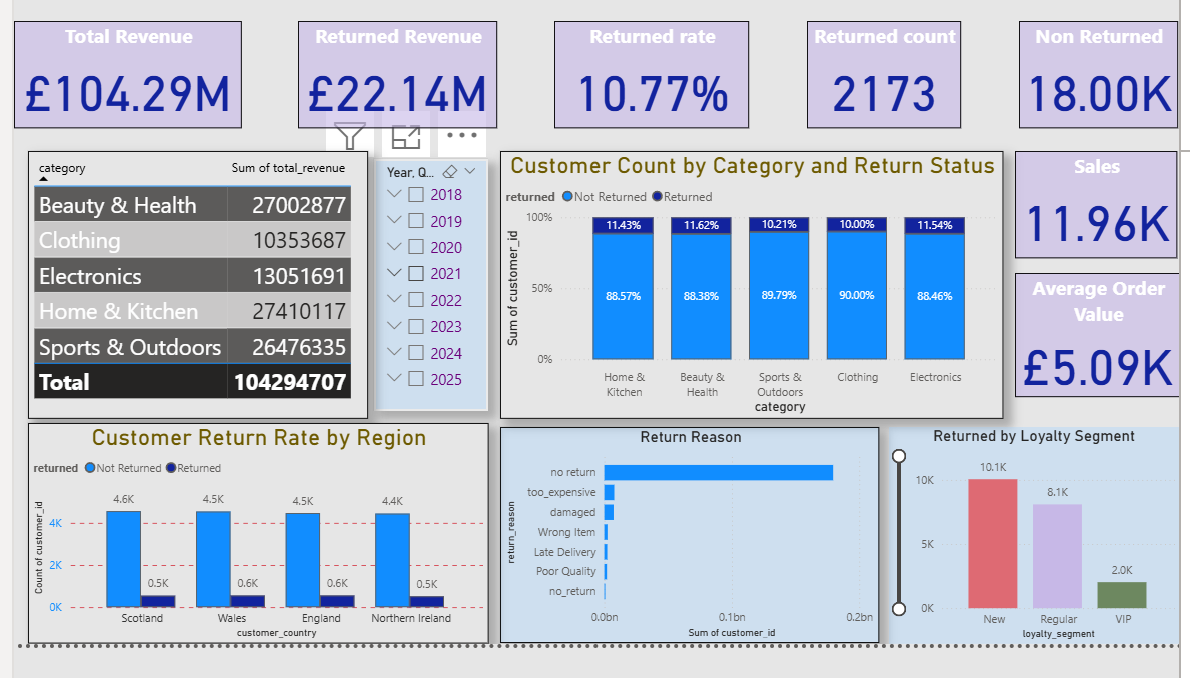

The page's visual inventory and layout, read from the dashboard file:
{"tool":"powerbi","page":{"name":"summary statistic","canvas":[1280,720],"ordinal":1},"visuals":[{"type":"slicer","fields":{"Values":["Sales.order_date.Variation.Date Hierarchy.Year","Sales.order_date.Variation.Date Hierarchy.Quarter","Sales.order_date.Variation.Date Hierarchy.Month","Sales.order_date.Variation.Date Hierarchy.Day"]},"box":[396,187.9,125.2,276.3],"z":0},{"type":"card","title":"Total Revenue","fields":{"Values":["Sum(Sales.total_revenue)"]},"box":[0,35,250.5,117.9],"z":1000},{"type":"card","title":"Returned count","fields":{"Values":["CountNonNull(Сustomers.customer_id)"]},"box":[871.1,35,169.4,117.9],"z":2000},{"type":"card","title":"Returned Revenue","fields":{"Values":["Sum(Сustomers.customer_id)"]},"box":[313.1,35,219.2,117.9],"z":3000},{"type":"card","title":"Returned rate","fields":{"Values":["Customers.Customer Rate"]},"box":[594.9,35,213.6,117.9],"z":4000},{"type":"card","title":"Non Returned","fields":{"Values":["CountNonNull(Сustomers.customer_id)"]},"box":[1103.2,35,175,117.9],"z":5000},{"type":"hundredPercentStackedColumnChart","title":"Customer Count by Category and Return Status","fields":{"Category":["Sales.category"],"Y":["Sum(Customers.customer_id)"],"Series":["Customers.returned"]},"box":[534.1,178.6,552.5,294.7],"z":6000},{"type":"tableEx","fields":{"Values":["Sales.category","Sum(Sales.total_revenue)"]},"box":[14.7,178.6,373.9,294.7],"z":7000},{"type":"clusteredBarChart","title":"Return Reason","fields":{"Category":["Customers.return_reason"],"Y":["Sum(Customers.customer_id)"]},"box":[534.1,482.5,416.2,237.6],"z":8000},{"type":"card","title":"Sales","fields":{"Values":["CountNonNull(Sales.sales)"]},"box":[1099.5,178.6,178.6,117.9],"z":9000},{"type":"clusteredColumnChart","title":"Returned by Loyalty Segment","fields":{"Category":["Customers.loyalty_segment"],"Y":["CountNonNull(Customers.returned)"]},"box":[960.5,482.1,319.5,238.3],"z":10000},{"type":"card","title":"Average Order Value","fields":{"Values":["Avg(Sales.total_revenue)"]},"box":[1099.5,313.1,182.3,136.3],"z":11000},{"type":"clusteredColumnChart","title":"Customer Return Rate by Region","fields":{"Series":["Customers.returned"],"Y":["CountNonNull(Customers.customer_id)"],"Category":["Customers.customer_country"]},"box":[15.2,477.7,506.5,242.7],"z":12000}]}

Visuals, with their boxes in screenshot pixels (x1, y1, x2, y2), scaled from the page's 1280x720 canvas onto the 1190x678 screenshot:
slicer - Sales.order_date.Variation.Date Hierarchy.Year x Sales.order_date.Variation.Date Hierarchy.Quarter: 368 177 485 437
"Total Revenue" card: 0 33 233 144
"Returned count" card: 810 33 967 144
"Returned Revenue" card: 291 33 495 144
"Returned rate" card: 553 33 752 144
"Non Returned" card: 1026 33 1188 144
"Customer Count by Category and Return Status" hundredPercentStackedColumnChart: 497 168 1010 446
tableEx - Sales.category x Sum(Sales.total_revenue): 14 168 361 446
"Return Reason" clusteredBarChart: 497 454 883 677
"Sales" card: 1022 168 1188 279
"Returned by Loyalty Segment" clusteredColumnChart: 893 454 1189 677
"Average Order Value" card: 1022 295 1189 423
"Customer Return Rate by Region" clusteredColumnChart: 14 450 485 677
